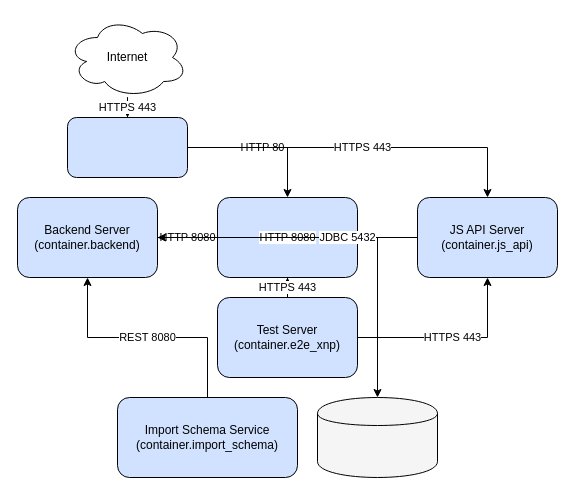
This 575x495 diagram has some shape labels left out. The shapes that lost their labels are listed below. From the top down, each one's centre as x and y in pixels, then its label:
point 127,147: Load Balancer
point 287,237: Frontend Server (container.frontend)
point 377,437: Database Server
